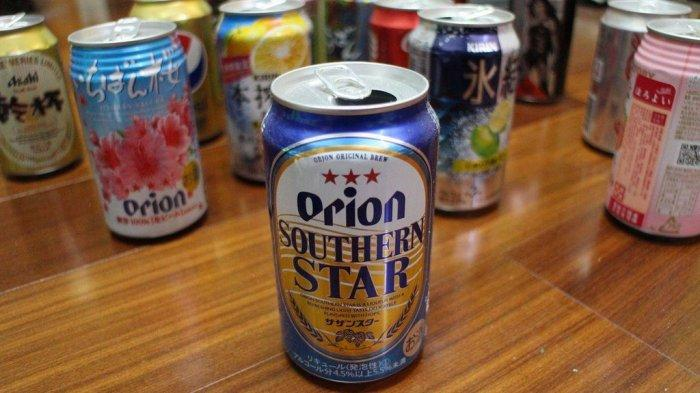metal: (265, 62, 434, 386), (336, 0, 518, 218), (60, 0, 215, 236), (583, 0, 700, 248), (210, 0, 325, 179), (0, 9, 80, 177)
